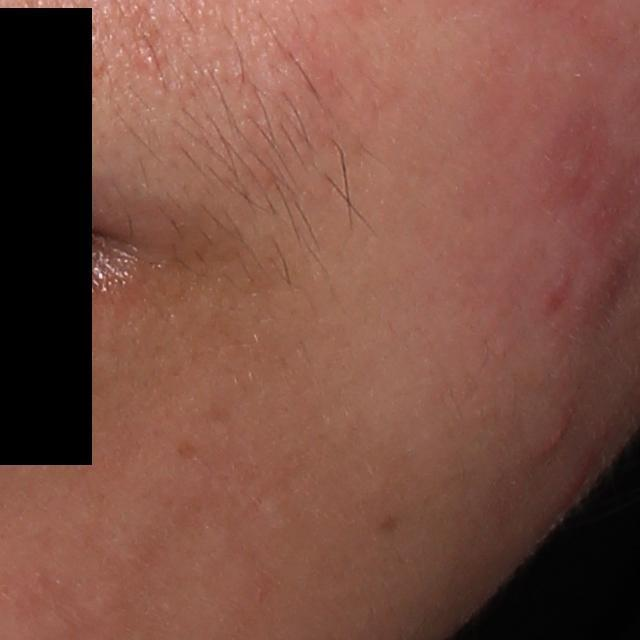papule: (528, 413, 573, 464)
